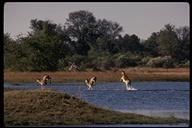antelope: (117, 67, 135, 91), (82, 74, 102, 92), (33, 74, 55, 90)
tree: (61, 7, 102, 43), (154, 18, 183, 56)
water: (141, 84, 189, 114)
